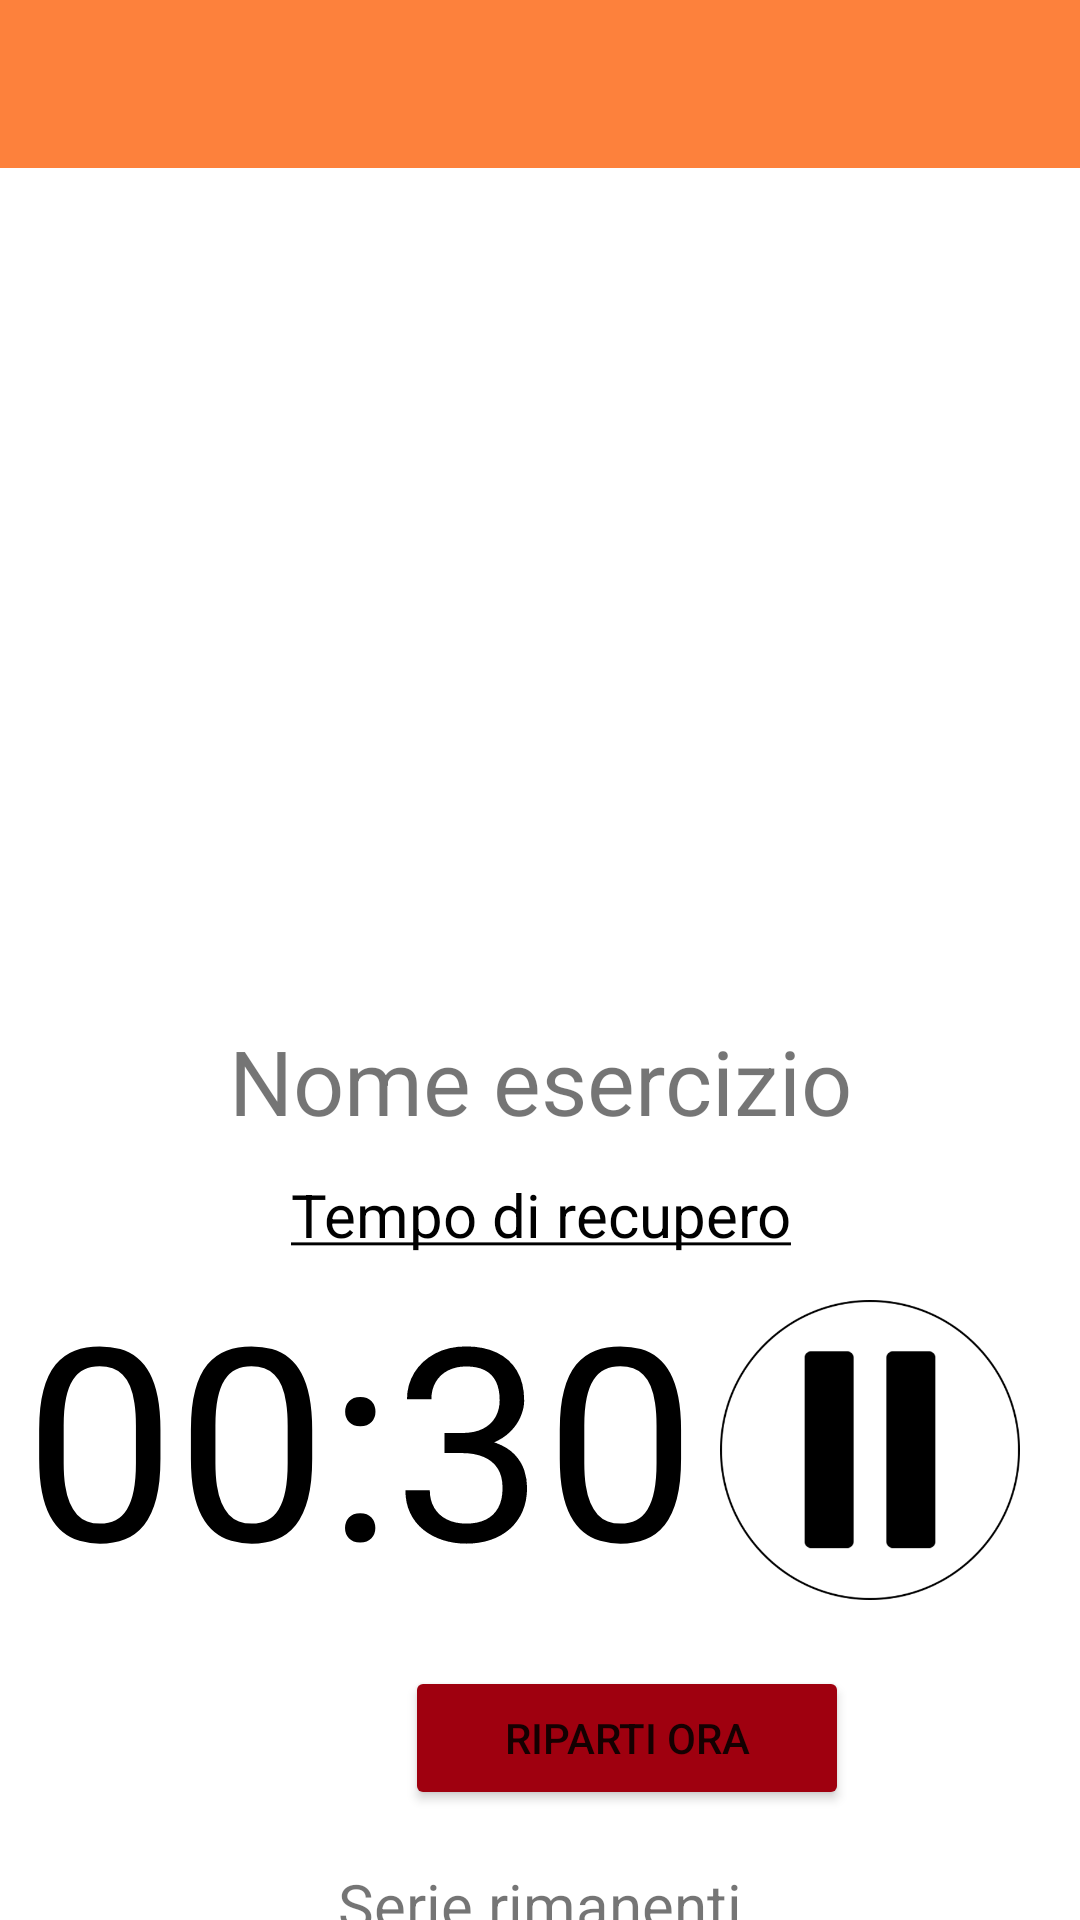

Icons on this 1080x1920 Android screen, each with the point to tap as (x=x, y=y):
Pausa: (x=870, y=1450)
